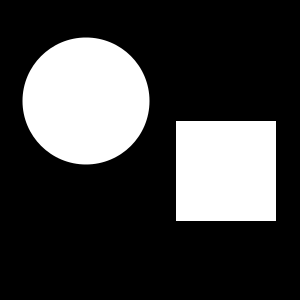circle: (176, 121, 276, 221)
rectangle: (23, 38, 150, 164)
